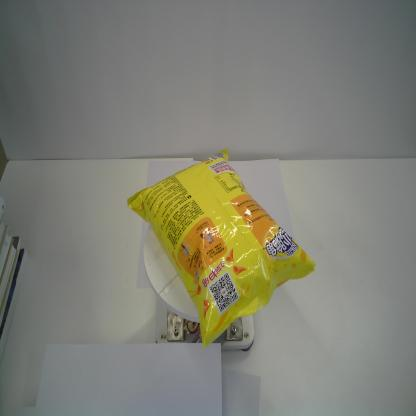Puffed Food: (127, 148, 319, 350)
